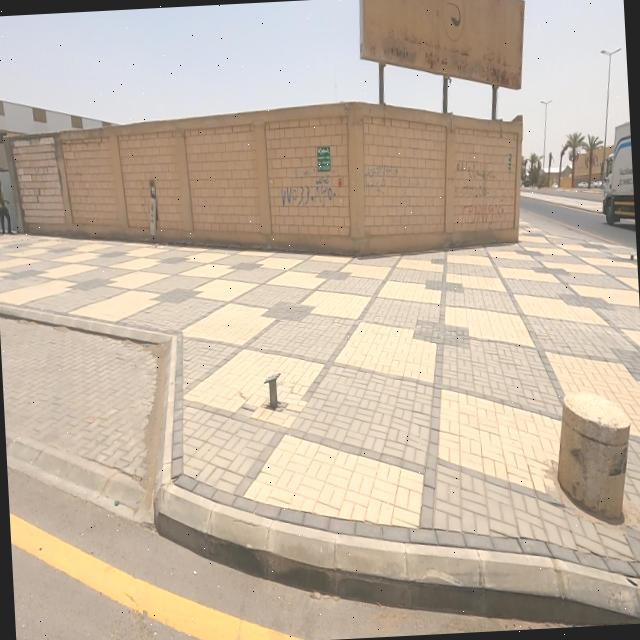Graffiti: (457, 157, 510, 228), (281, 174, 346, 213), (367, 160, 401, 198)
